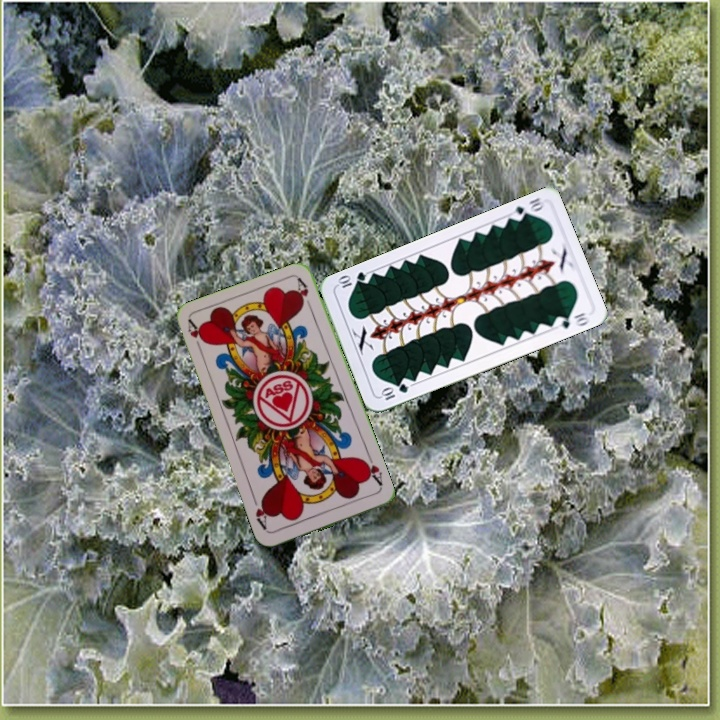G10: (509, 193, 546, 223), (376, 379, 411, 403)
HA: (358, 452, 385, 491), (183, 316, 208, 356)
